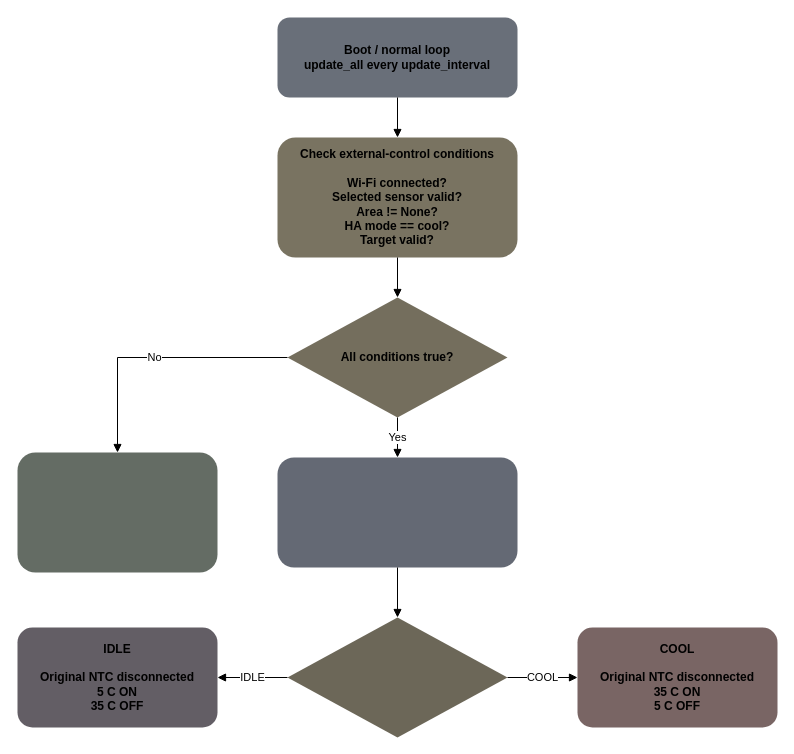
This 794x754 diagram has some shape labels left out. The box of each missing label's shape, as (x1, y1, x2, y2) in pixels:
External control inactive Original NTC connected 5 C OFF 35 C OFF Thermostat OFF: (17, 452, 217, 572)
Synchronize thermostat Mode = COOL Target = HA target: (277, 457, 517, 567)
Thermostat state?: (287, 617, 507, 737)
